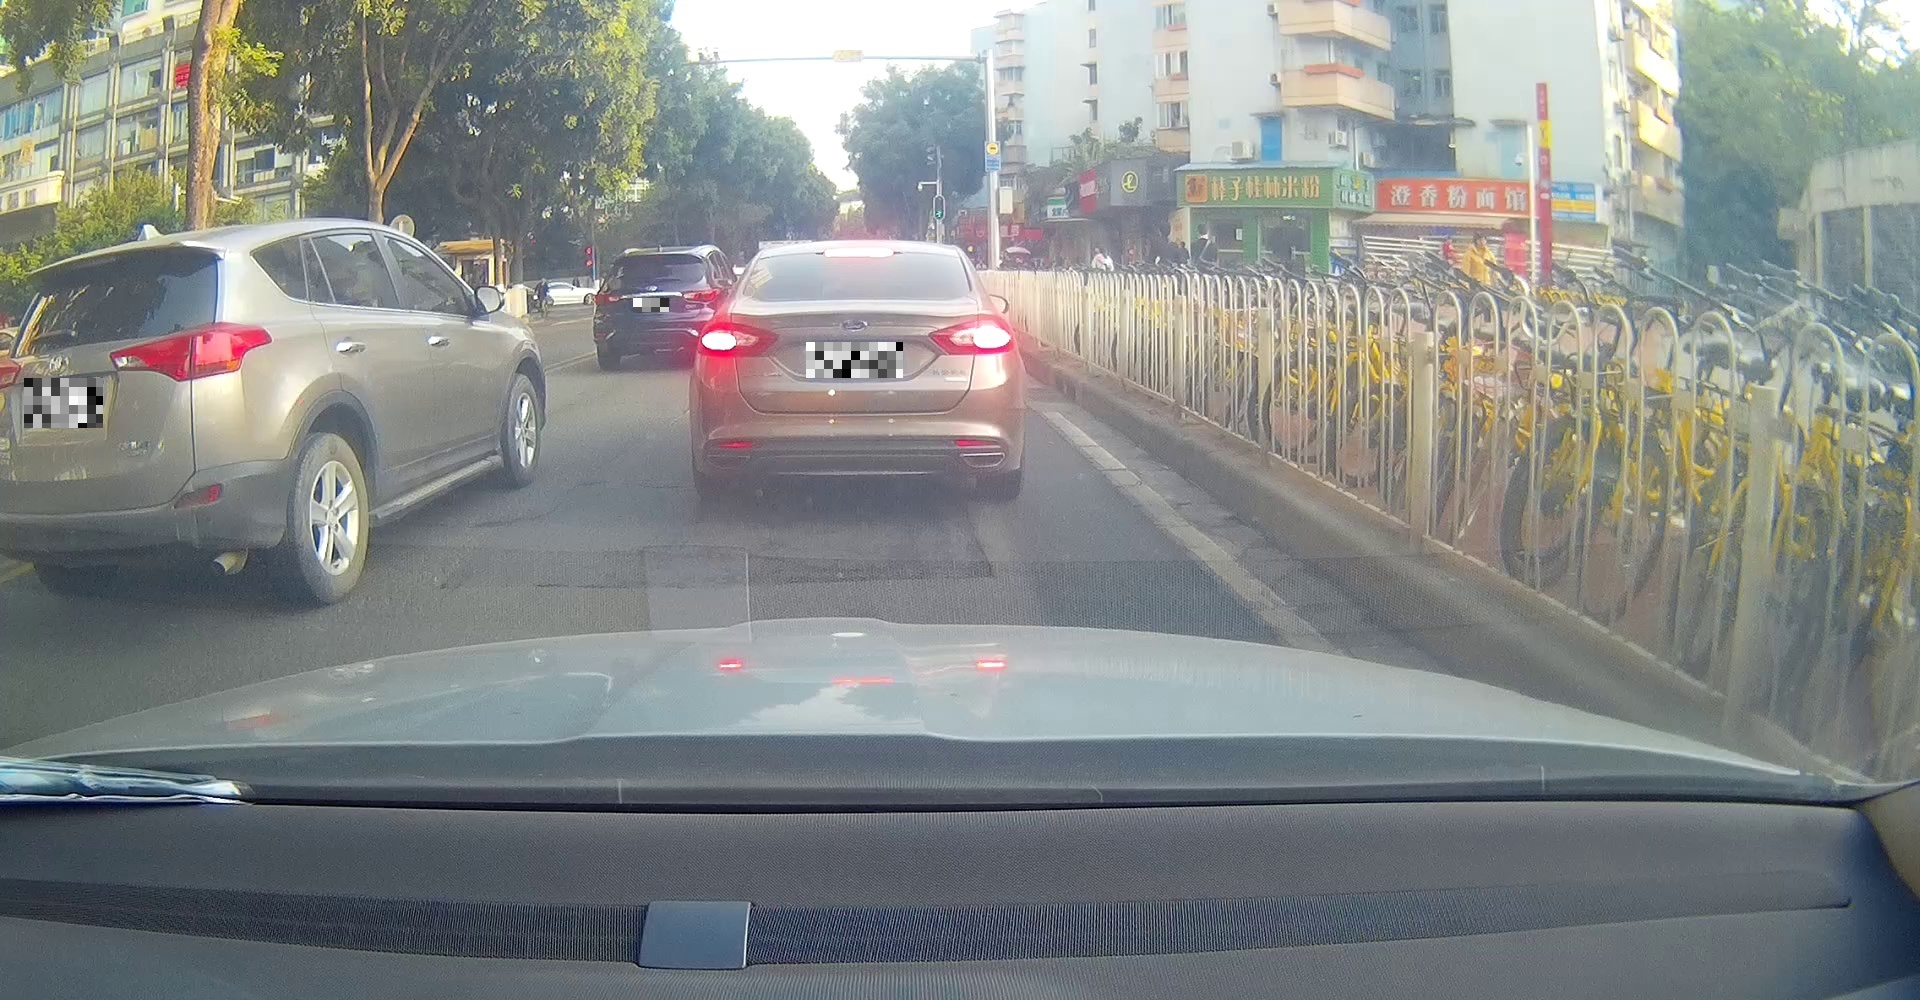L_light: (693, 317, 778, 359), (0, 357, 22, 390)
R_light: (107, 320, 272, 382), (926, 312, 1018, 357)
T_light: (824, 245, 897, 261), (88, 265, 137, 275)
day-brake: (681, 231, 1031, 499)
day-no: (0, 239, 274, 598)
plate_1: (24, 378, 103, 428)
plate_2: (806, 341, 903, 378)
plate_3: (632, 298, 669, 312)
